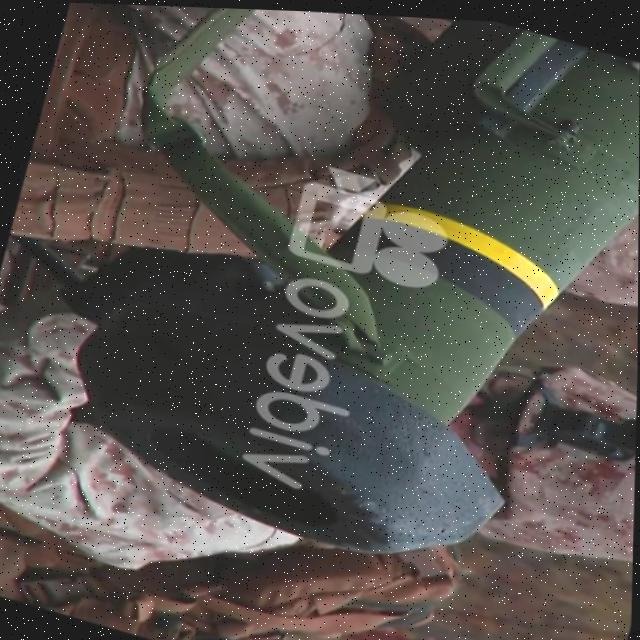rocket: (53, 2, 640, 615)
